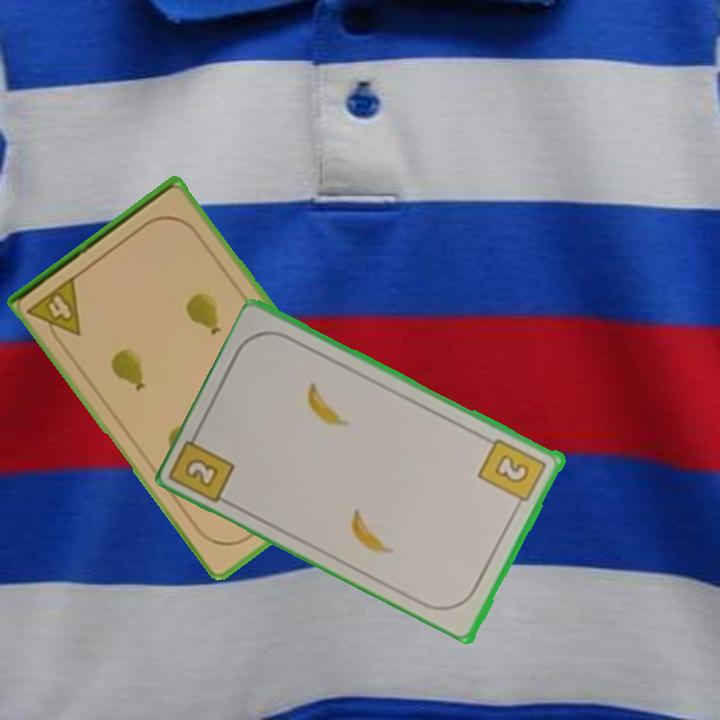2b: (475, 434, 550, 512), (169, 423, 239, 505)
4p: (23, 272, 85, 350)
